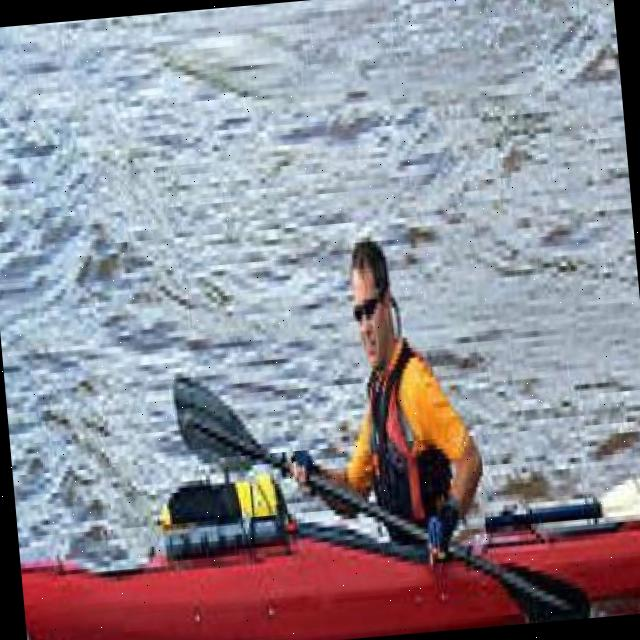kayak: (0, 0, 640, 640), (20, 476, 640, 640)
